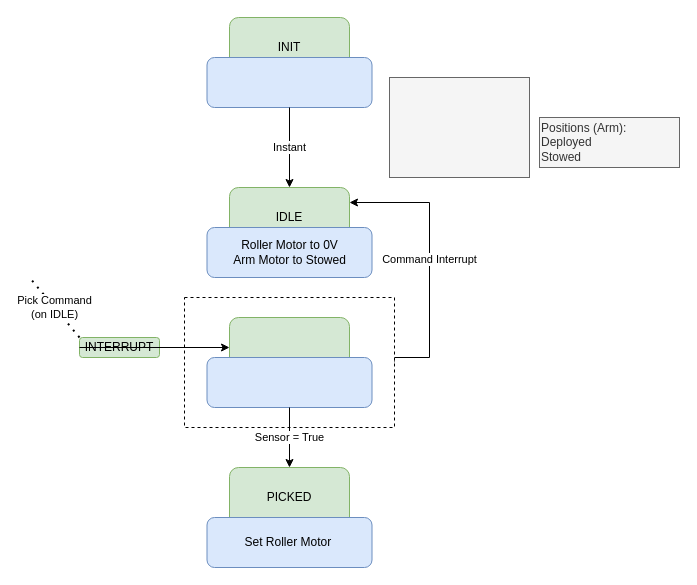
This 697x585 diagram has some shape labels left out. The shapes that lost their labels are listed below. From the top down, each one's box as (x1, y1, x2, y2) in pixels, then its label:
(206, 56, 372, 108): Reset Encoder to Stowed
(388, 76, 530, 178): Sensors: Fixed Field Banner Sensor Motors: Kraken x44 (arm Neo 550 (roller)
(228, 316, 350, 378): PICKING
(206, 356, 372, 408): Set Roller Motor to -12V Set Arm Motor to Deployed
